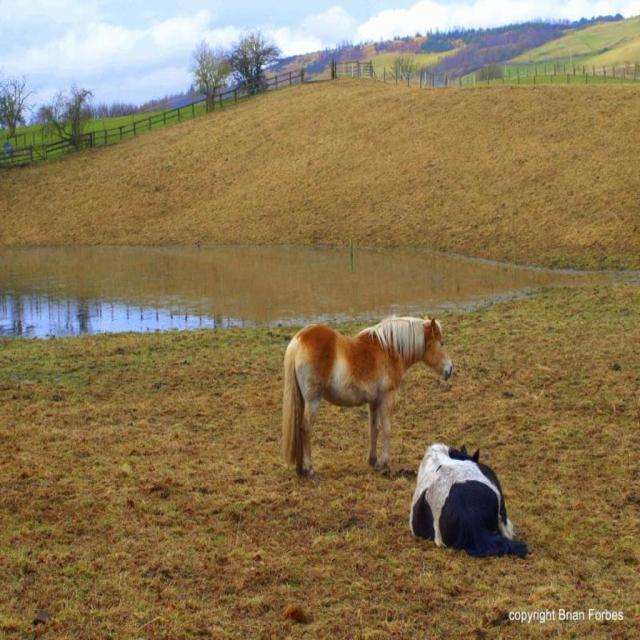Horse: (278, 312, 454, 478), (409, 438, 533, 558)
